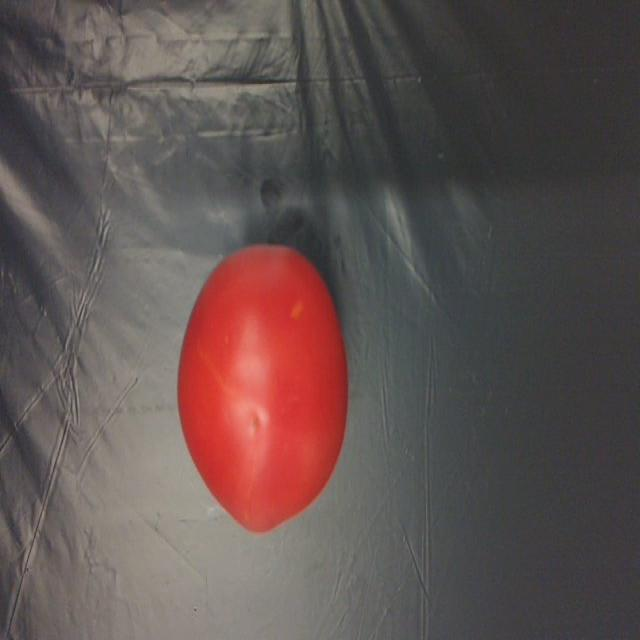kirmizi: (172, 242, 354, 533)
